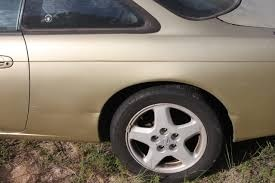Dent: (227, 109, 245, 122)
Scratch: (26, 102, 43, 114), (91, 110, 102, 116)
